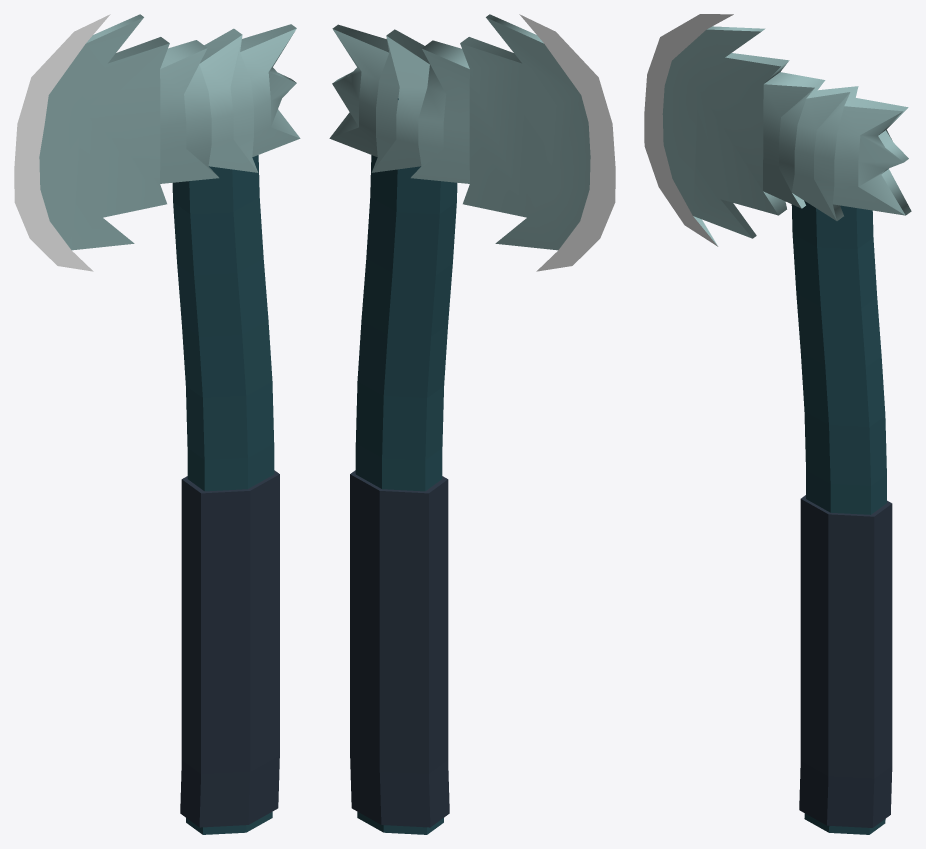
File: axe_ice.fbx
3 renders of one model, left to right at view 1: azimuth 30°, elevation 25°; view 2: azimuth 150°, elevation 25°; view 3: azimuth 330°, elevation 25°, orthographic. The views are drawn at different scales.
Parts seen in each view (by area): view 1: Handle.002, Blade.002; view 2: Handle.002, Blade.002; view 3: Handle.002, Blade.002.
Boxes of the visible parts, <box> form: Handle.002: <box>172,155,279,834</box>; Blade.002: <box>14,14,300,271</box>; Handle.002: <box>350,98,457,834</box>; Blade.002: <box>329,14,615,271</box>; Handle.002: <box>791,200,892,834</box>; Blade.002: <box>644,14,911,246</box>.
Bounding box in the file's own units: 0.0513 × 0.6117 × 0.217.
